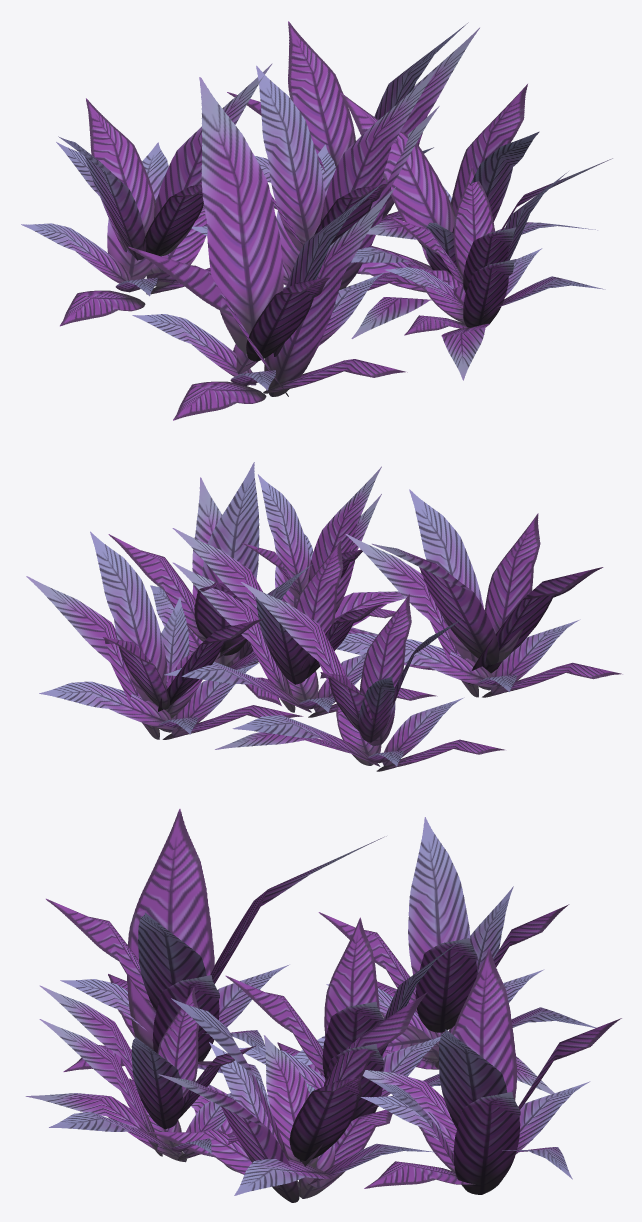
The model's file is bush_2_petit.fbx.
3 renders of one model, top to bottom at view 1: azimuth 30°, elevation 25°; view 2: azimuth 150°, elevation 25°; view 3: azimuth 270°, elevation 25°, orthographic. The views are drawn at different scales.
Parts seen in each view (by area): view 1: feuillage_2_petit; view 2: feuillage_2_petit; view 3: feuillage_2_petit.
Part boxes in pixels (<box>): feuillage_2_petit: <box>21,21,612,420</box>; feuillage_2_petit: <box>26,462,622,771</box>; feuillage_2_petit: <box>25,809,621,1202</box>.
Bounding box in the file's own units: 116 × 54.15 × 111.
